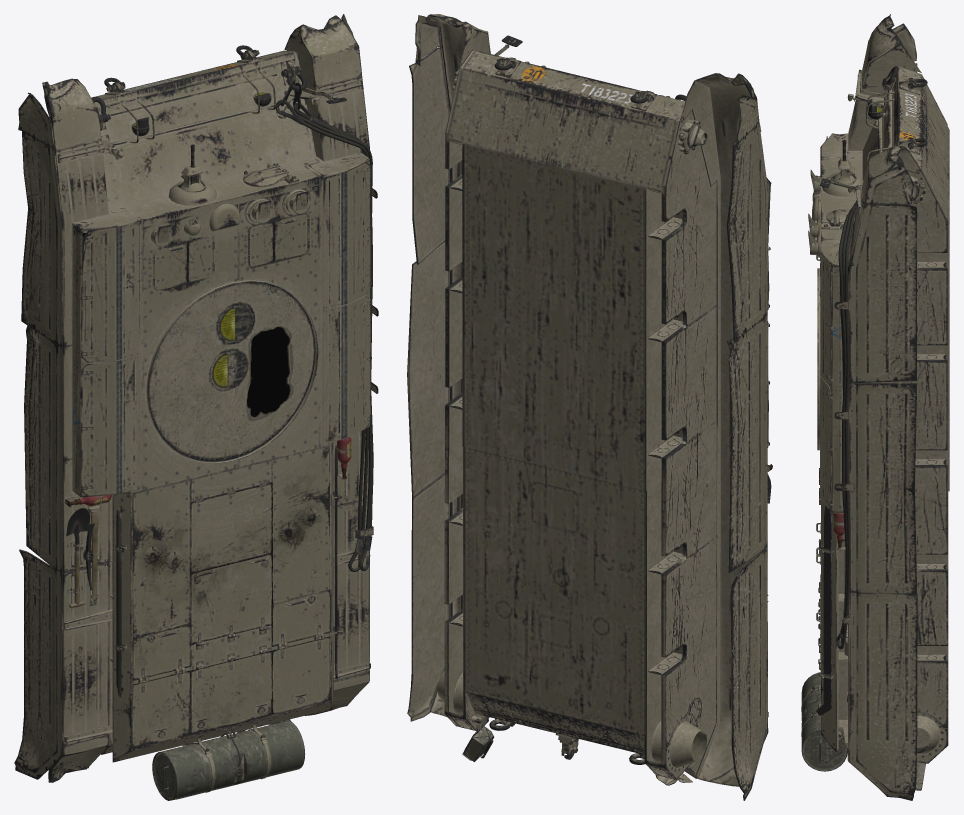
The model's file is Hull.glb.
The picture shows the model from 3 angles, left to right: view 1: azimuth 30°, elevation 25°; view 2: azimuth 150°, elevation 25°; view 3: azimuth 270°, elevation 25°; orthographic projection. The views are drawn at different scales.
Visible parts, largest first — view 1: set_0_group_0; view 2: set_0_group_0; view 3: set_0_group_0.
Part boxes in pixels (bbox=[...]): set_0_group_0: bbox=[14, 14, 378, 800]; set_0_group_0: bbox=[407, 14, 772, 800]; set_0_group_0: bbox=[801, 14, 949, 800].
Bounding box in the file's own units: 3.12 × 6.5 × 1.31.
Materials: 1 (1 with a texture image).
